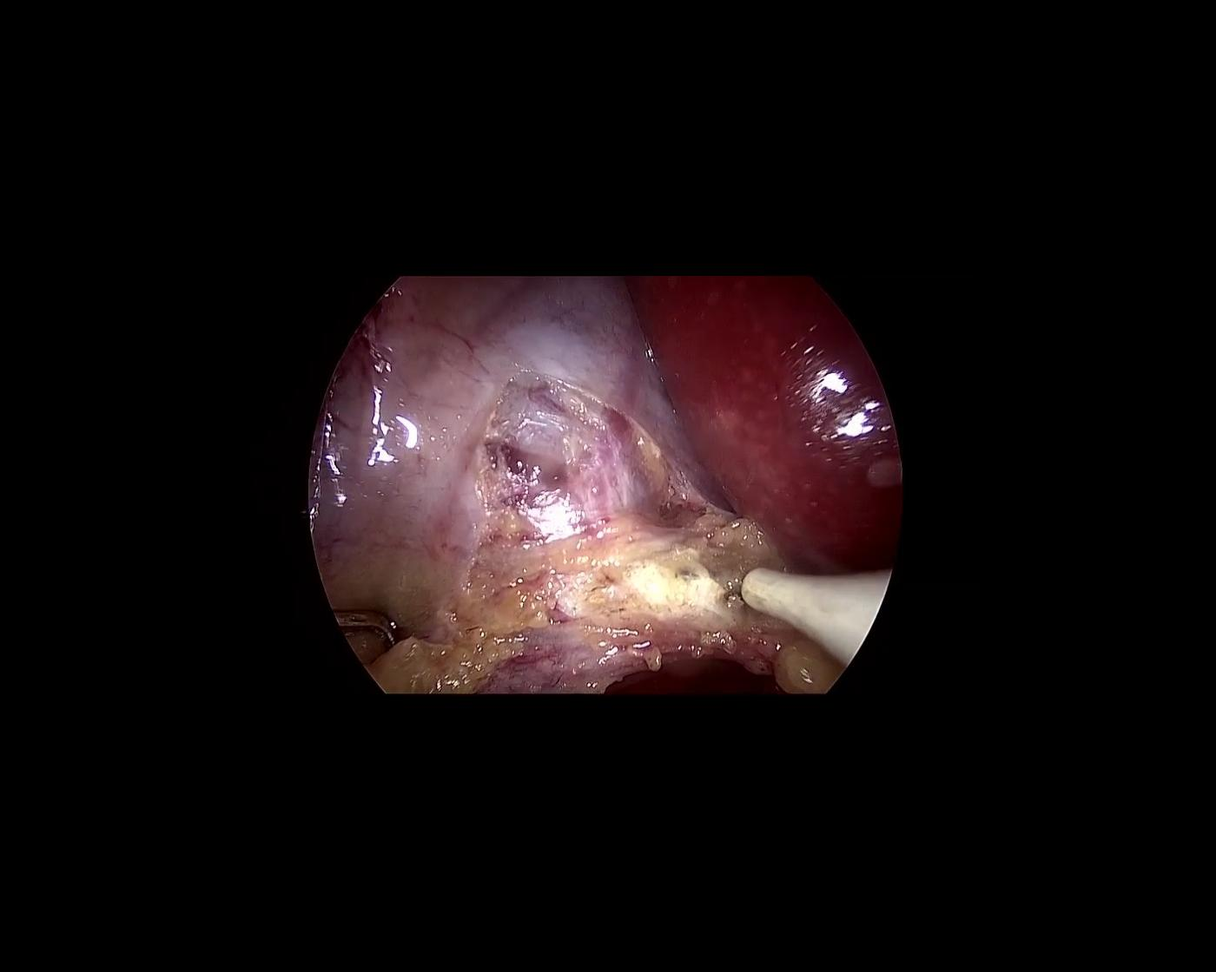Cautery: (732, 509, 900, 668)
Forceps: (325, 585, 413, 674)
Gallbladder: (316, 275, 723, 694)
Liver: (626, 214, 935, 620)
